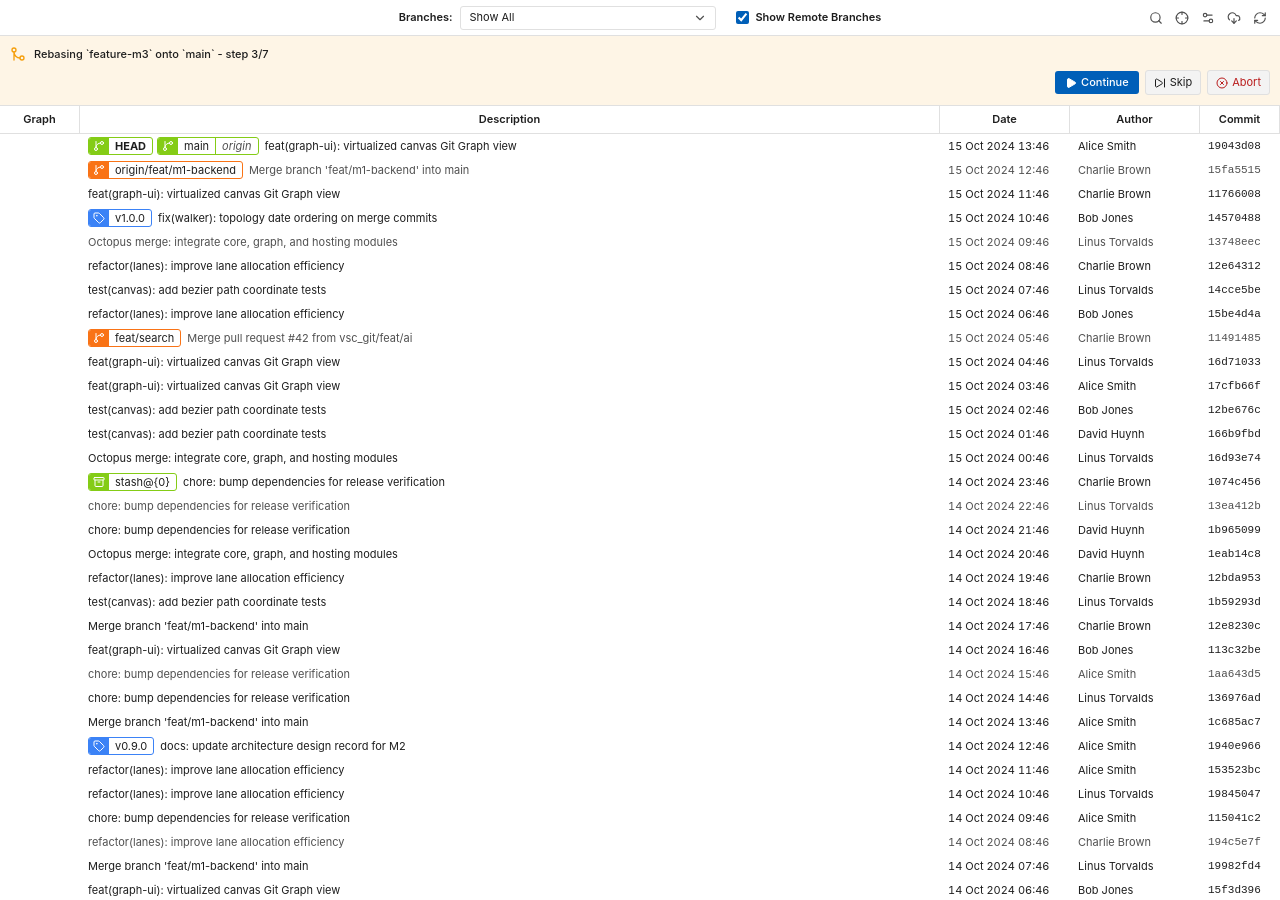
Test case: GraphView component › opens context menu on commit with spec 6.5 items
Right-click the text "feat(graph-ui): virtualized canvas Git Graph view" in the row of "HEAD" at (391, 146), box [264,138,517,154]
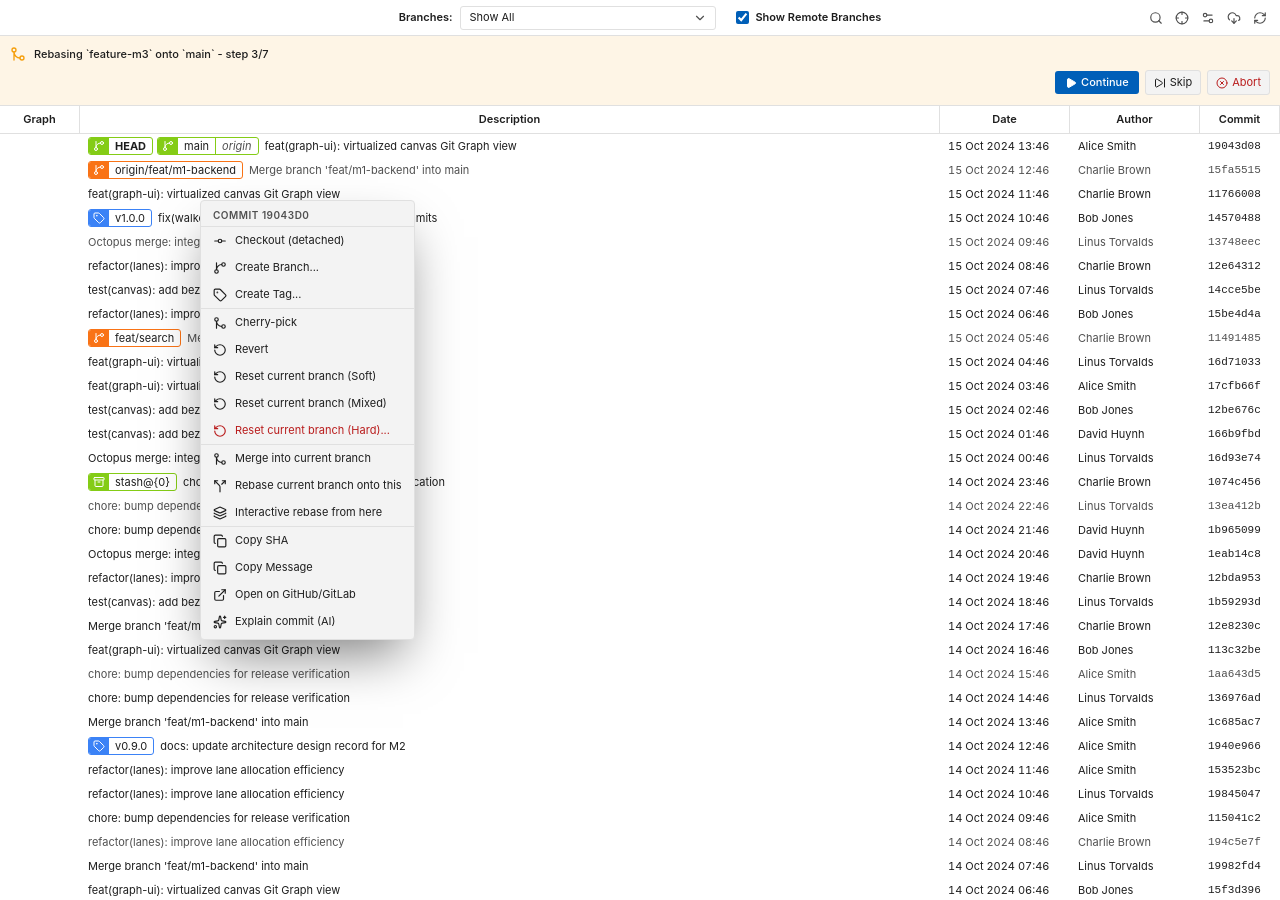
Expected: the text "Checkout (detached)" is shown, [235,233,345,248]
Expected: the text "Create Branch..." is shown, [235,260,319,275]
Expected: the text "Create Tag..." is shown, [235,287,301,302]
